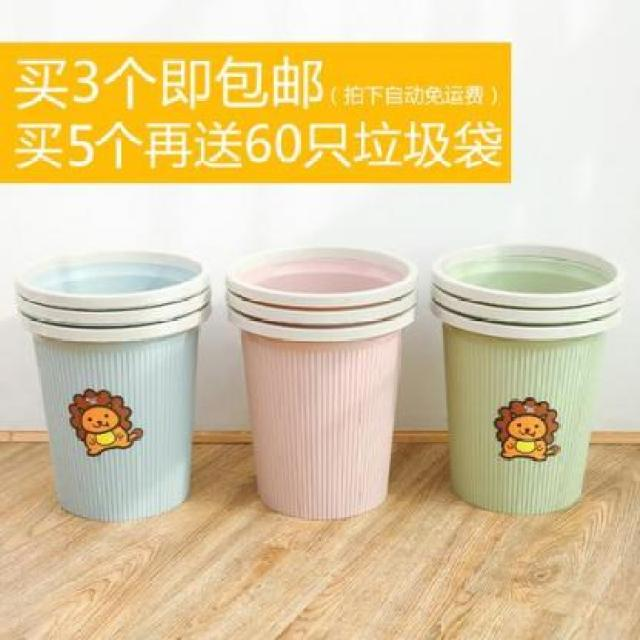dustbin: (9, 245, 220, 528), (222, 243, 423, 525), (429, 237, 629, 518)
